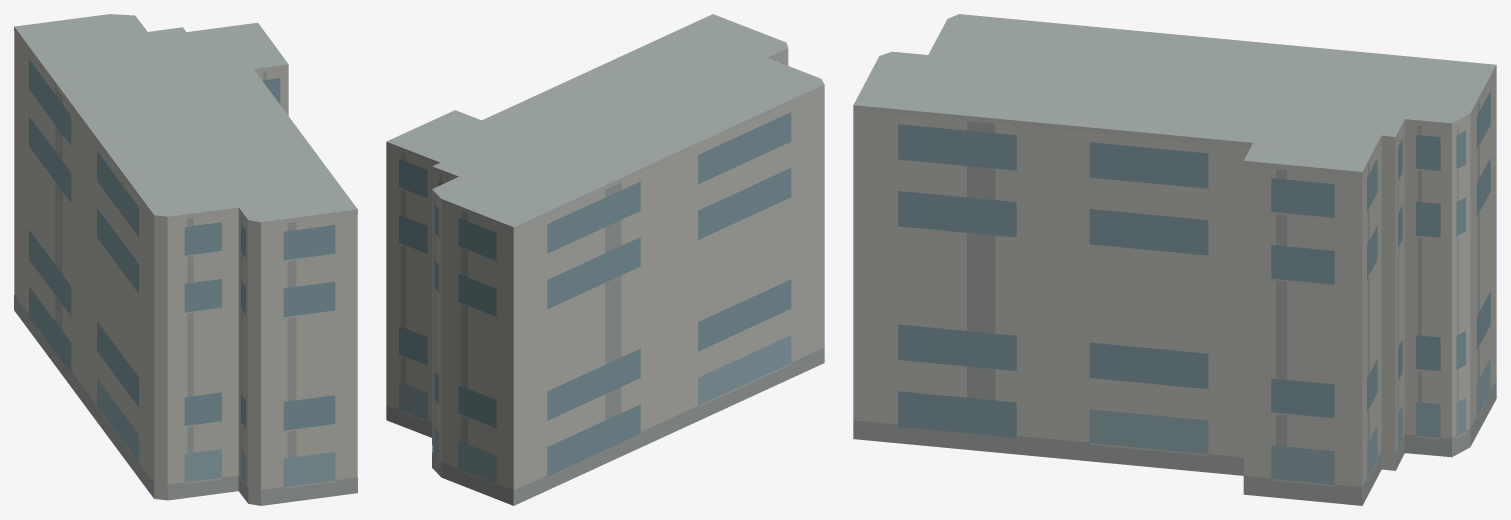
File: survey-upis-32780191.glb
3 renders of one model, left to right at view 1: azimuth 30°, elevation 25°; view 2: azimuth 150°, elevation 25°; view 3: azimuth 270°, elevation 25°, orthographic. The views are drawn at different scales.
Visible parts, largest first — view 1: survey-upis-32780191.tmp; view 2: survey-upis-32780191.tmp; view 3: survey-upis-32780191.tmp.
Part boxes in pixels (x1=…): survey-upis-32780191.tmp: x1=14, y1=14, x2=357, y2=505; survey-upis-32780191.tmp: x1=386, y1=14, x2=824, y2=505; survey-upis-32780191.tmp: x1=853, y1=14, x2=1496, y2=505.
Bounding box in the file's own units: 15.48 × 15.25 × 26.63.
